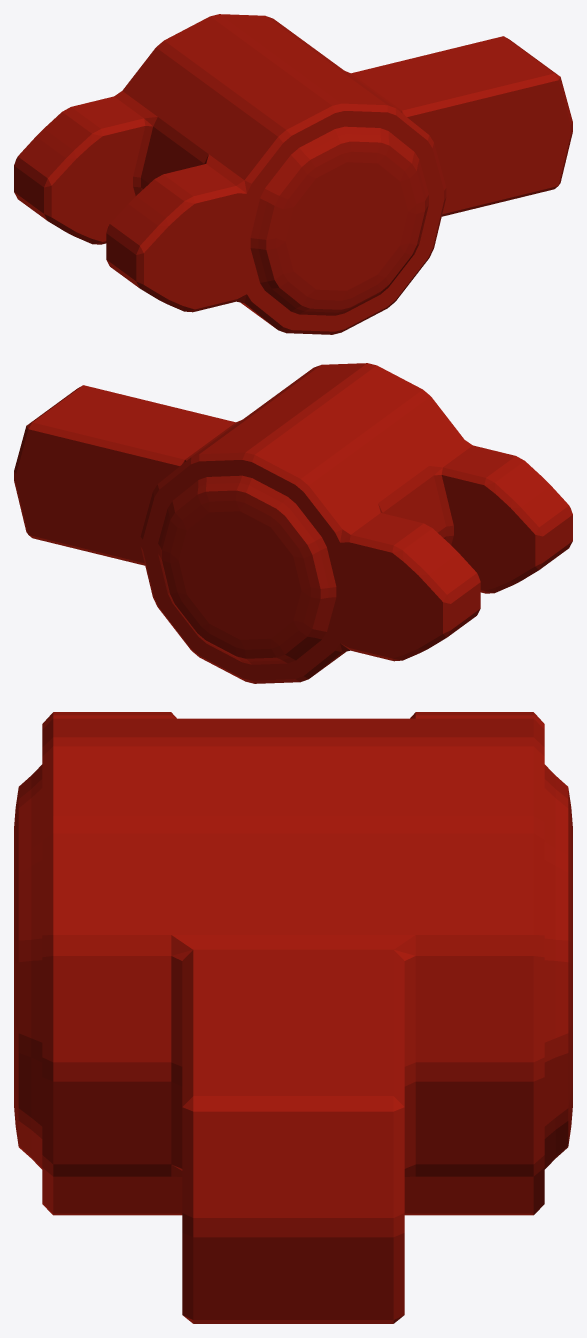
3 renders of one model, top to bottom at view 1: azimuth 30°, elevation 25°; view 2: azimuth 150°, elevation 25°; view 3: azimuth 270°, elevation 25°, orthographic. The views are drawn at different scales.
Visible parts, largest first — view 1: node0; view 2: node0; view 3: node0.
Part boxes in pixels (<box>): node0: <box>14,14,572,334</box>; node0: <box>14,363,572,683</box>; node0: <box>14,712,572,1323</box>.
Bounding box in the file's own units: 2.39 × 1.25 × 1.11.
